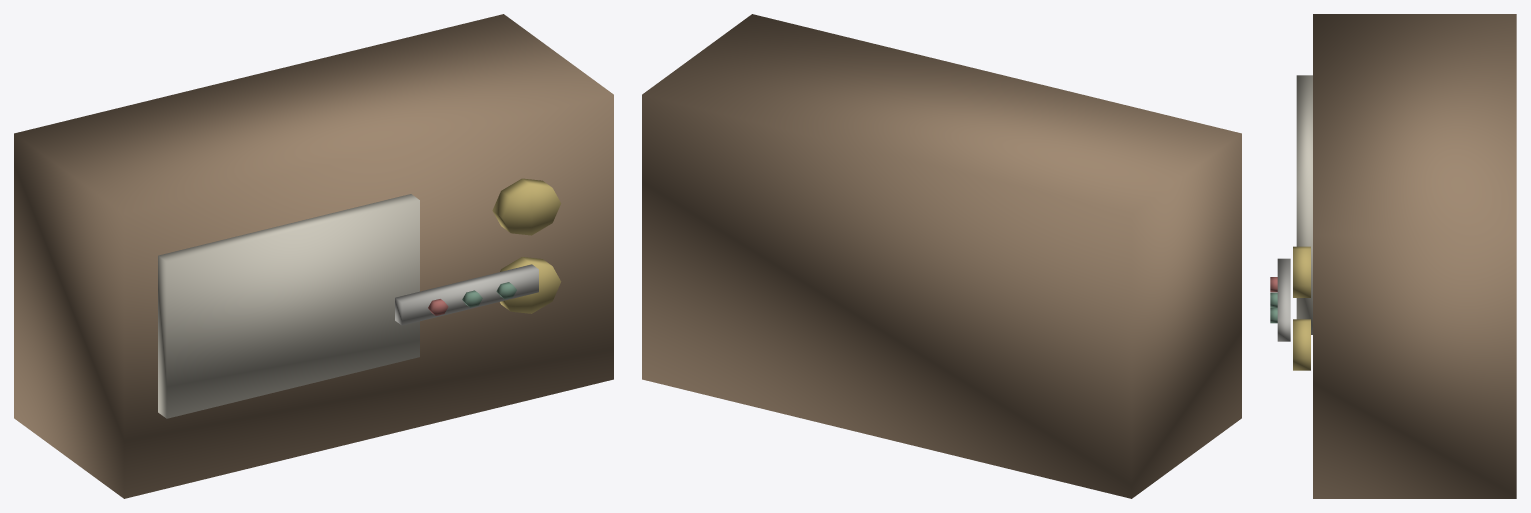
File: tube_radio__wide.glb
The picture shows the model from 3 angles, left to right: view 1: azimuth 30°, elevation 25°; view 2: azimuth 150°, elevation 25°; view 3: azimuth 270°, elevation 25°; orthographic projection. The views are drawn at different scales.
Parts seen in each view (by area): view 1: world; view 2: world; view 3: world.
Part boxes in pixels (bbox=[...]): world: bbox=[14, 14, 613, 498]; world: bbox=[642, 14, 1241, 498]; world: bbox=[1270, 14, 1516, 498].
Size of the model in its own units: 0.7192 by 0.4 by 0.3385.
